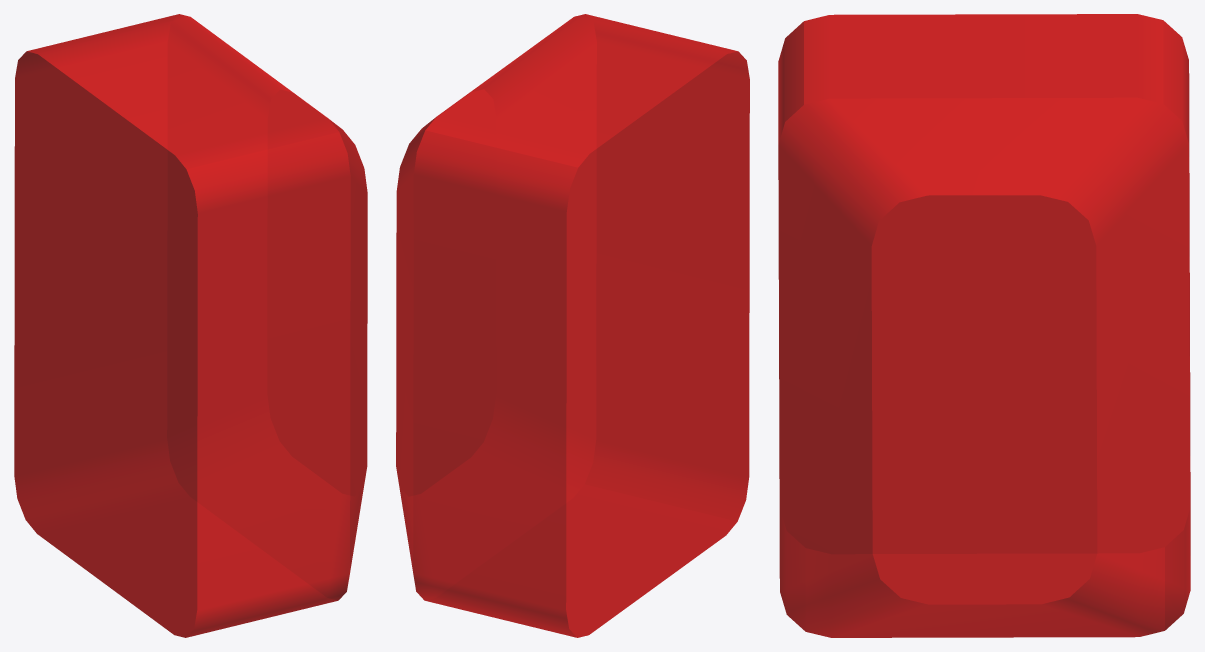
File: Gem.fbx
3 renders of one model, left to right at view 1: azimuth 30°, elevation 25°; view 2: azimuth 150°, elevation 25°; view 3: azimuth 270°, elevation 25°, orthographic. The views are drawn at different scales.
Visible parts, largest first — view 1: Gem; view 2: Gem; view 3: Gem.
Boxes of the visible parts, x1,y1,x2,y2 form: Gem: [14, 14, 367, 637]; Gem: [396, 14, 749, 637]; Gem: [778, 14, 1190, 637].
Size of the model in its own units: 0.8103 by 1.76 by 1.22.
